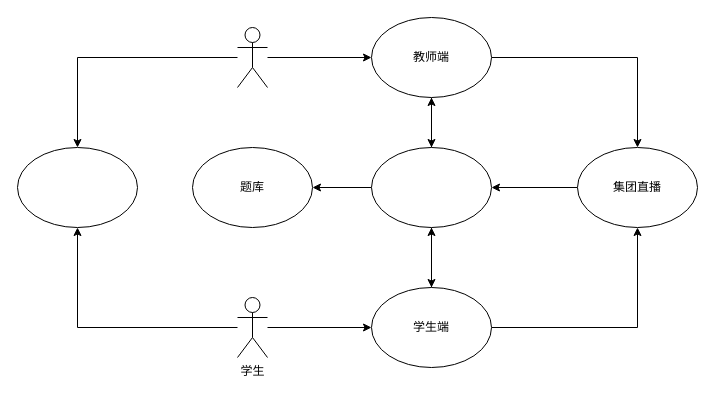
Some shapes in this 715 by 396 pixel diagram are drawn without their labels. The shapes that lost their labels are listed below. From the top down, each one's centre as x and y in pixels, then its label:
pixel 252 57: 老师
pixel 77 187: 作业
pixel 431 187: 互动服务
